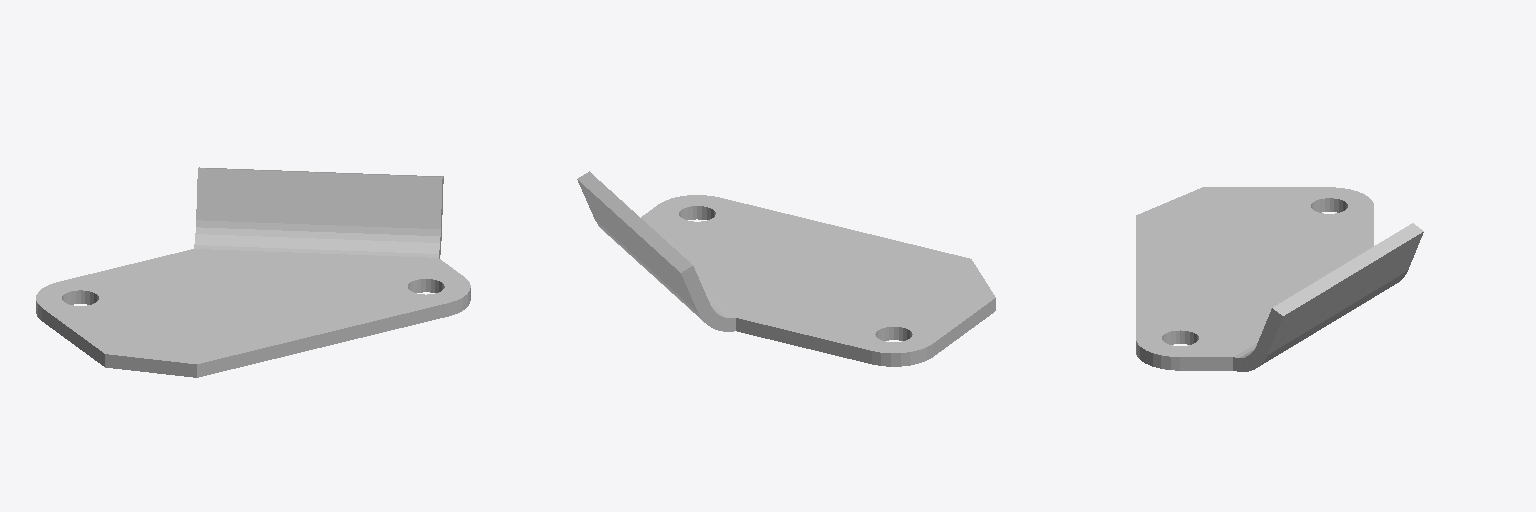
File: SecD_Prob1.obj
3 renders of one model, left to right at view 1: azimuth 30°, elevation 25°; view 2: azimuth 150°, elevation 25°; view 3: azimuth 270°, elevation 25°, orthographic.
Parts seen in each view (by area): view 1: SecD_Prob1; view 2: SecD_Prob1; view 3: SecD_Prob1.
Boxes of the visible parts, x1,y1,x2,y2 form: SecD_Prob1: [36, 167, 470, 377]; SecD_Prob1: [577, 171, 995, 366]; SecD_Prob1: [1136, 187, 1423, 371].
Size of the model in its own units: 0.1174 by 0.022 by 0.0774.